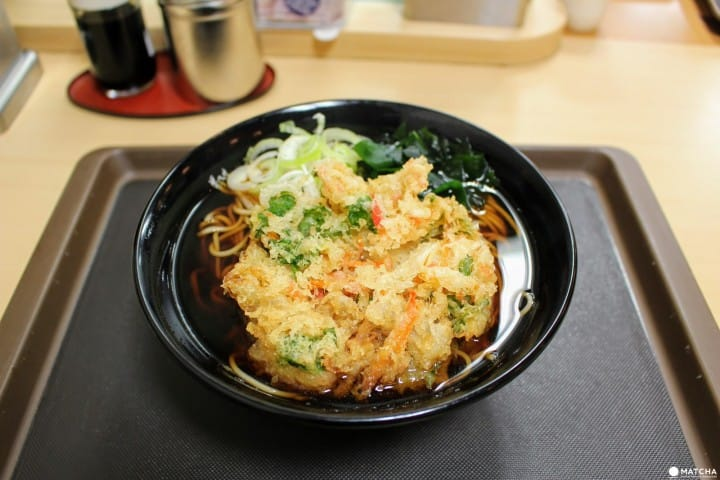Soba: (184, 191, 264, 258)
